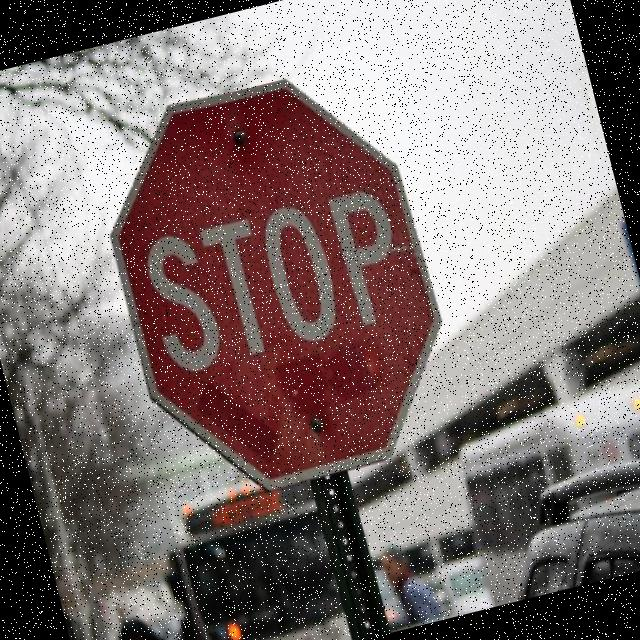stop: (66, 39, 484, 528)
